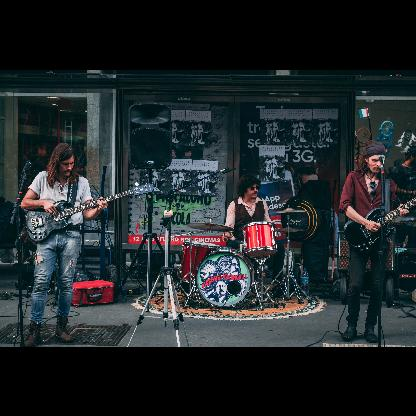bass: (24, 178, 156, 240)
guitar: (342, 192, 416, 254)
